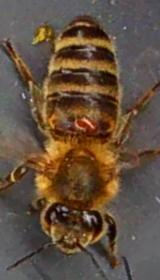varroa_mite: (70, 110, 99, 136)
